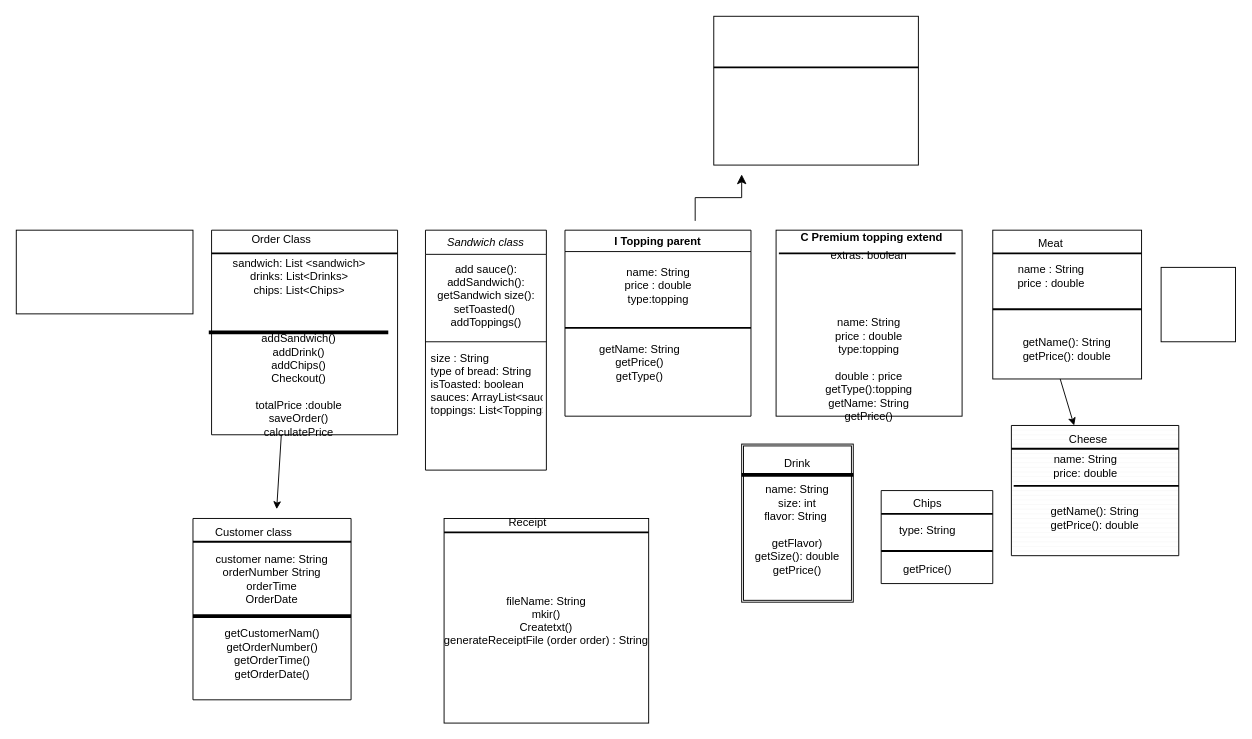
Some shapes in this 1252 by 739 pixel diagram are drawn without their labels. The shapes that lost their labels are listed below. From the top down, each one's centre as x and y in pixels, then its label:
pixel 815 90: Regular toppings name : string getName()
pixel 104 271: Homescreen: Main() exit: boolean - newOrder() - exit()
